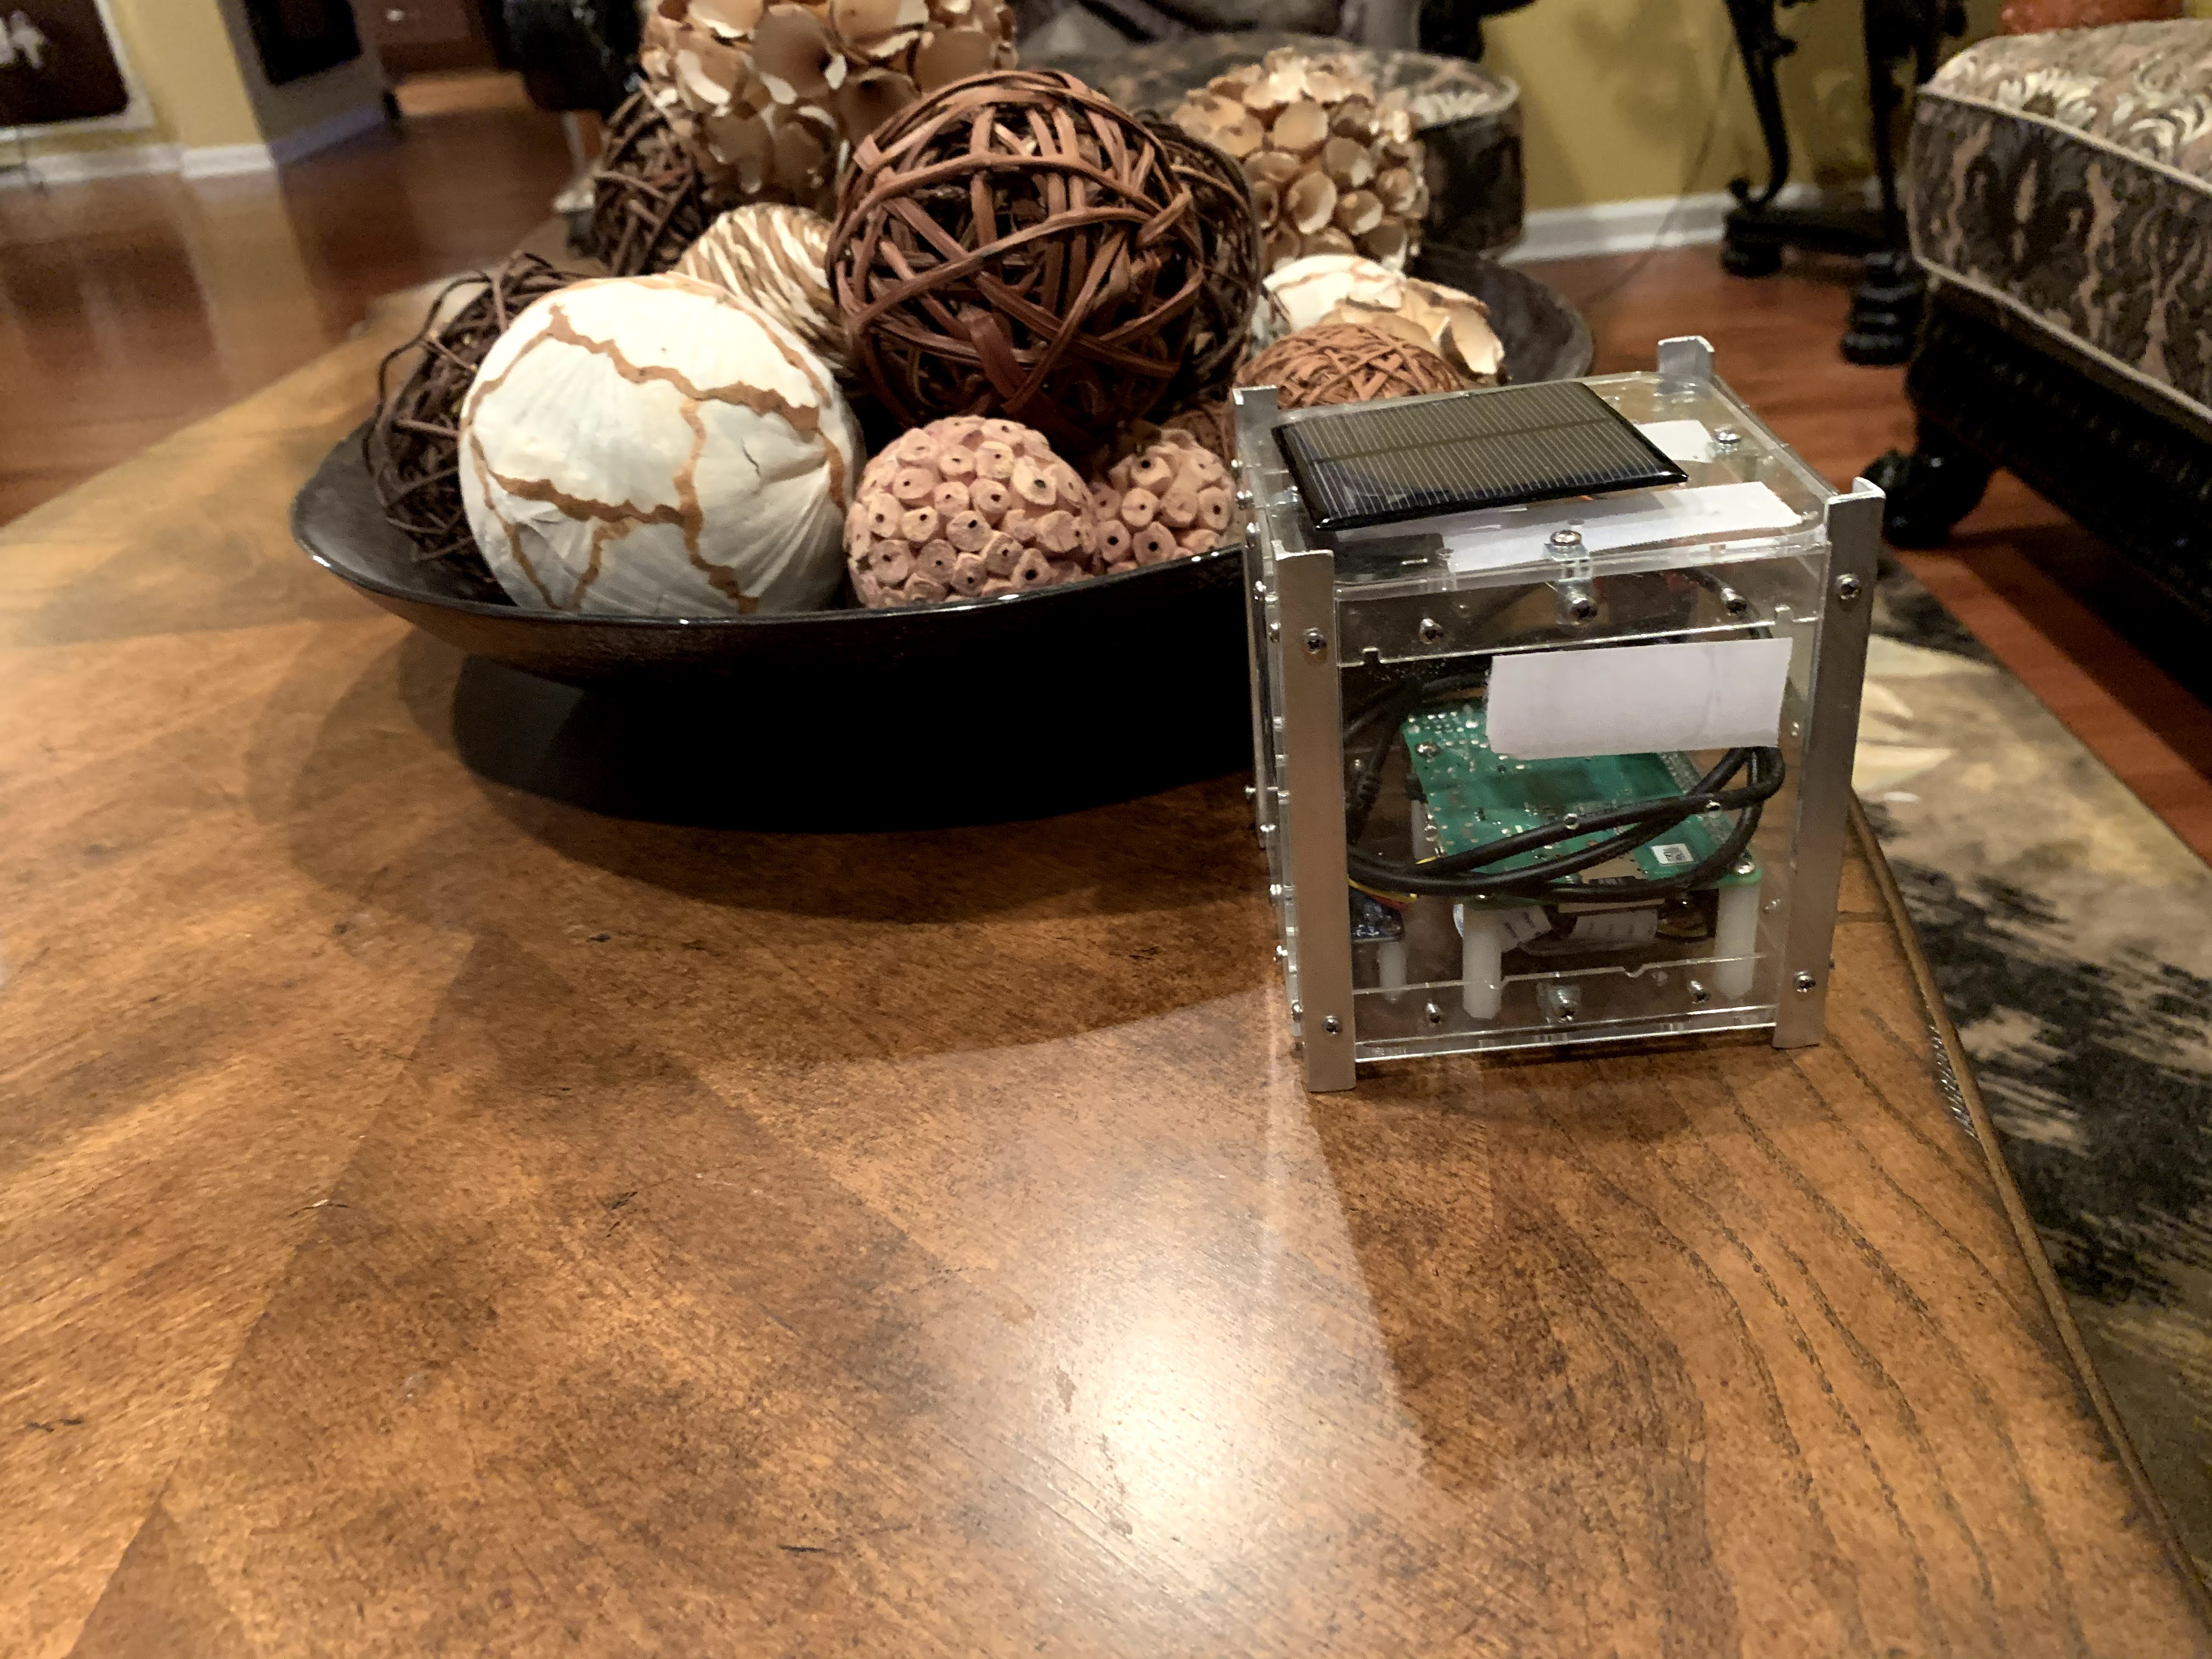Space-debris-cubesat: (1214, 329, 1900, 1105)
